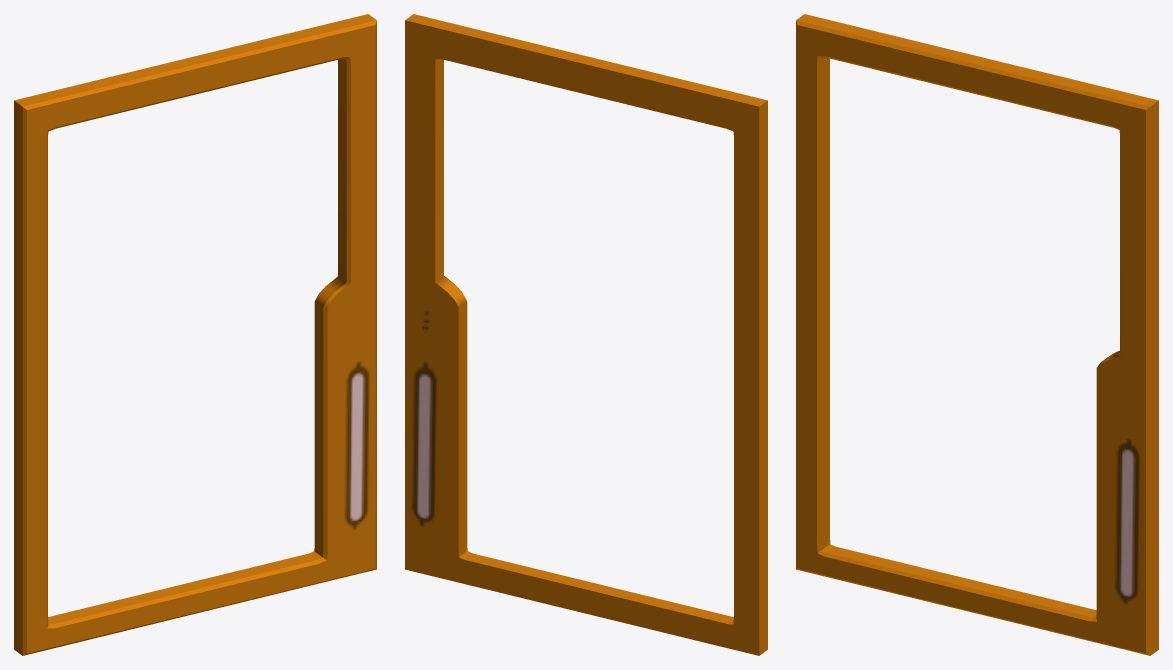
File: Door.fbx
3 renders of one model, left to right at view 1: azimuth 30°, elevation 25°; view 2: azimuth 150°, elevation 25°; view 3: azimuth 330°, elevation 25°, orthographic.
Visible parts, largest first — view 1: Door1; view 2: Door1; view 3: Door1.
Part boxes in pixels (x1,y1,x2,y2): Door1: (14, 14, 376, 655); Door1: (405, 14, 767, 655); Door1: (796, 14, 1158, 655).
Bounding box in the file's own units: 1.72 × 2.55 × 0.0854.
